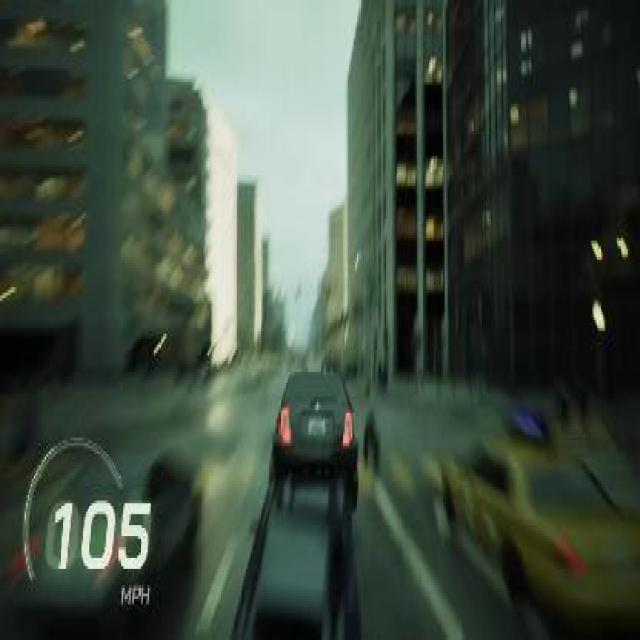accident: (229, 369, 363, 640)
